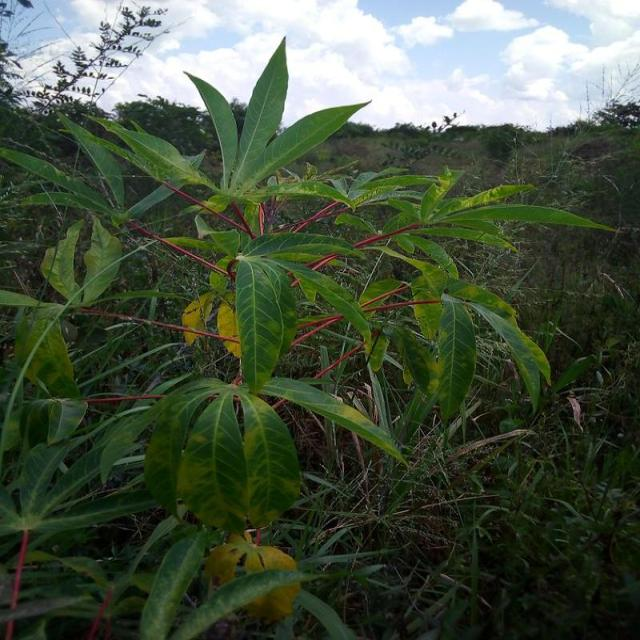cassava leaf: (175, 388, 248, 532), (234, 254, 296, 392), (435, 291, 476, 420)
